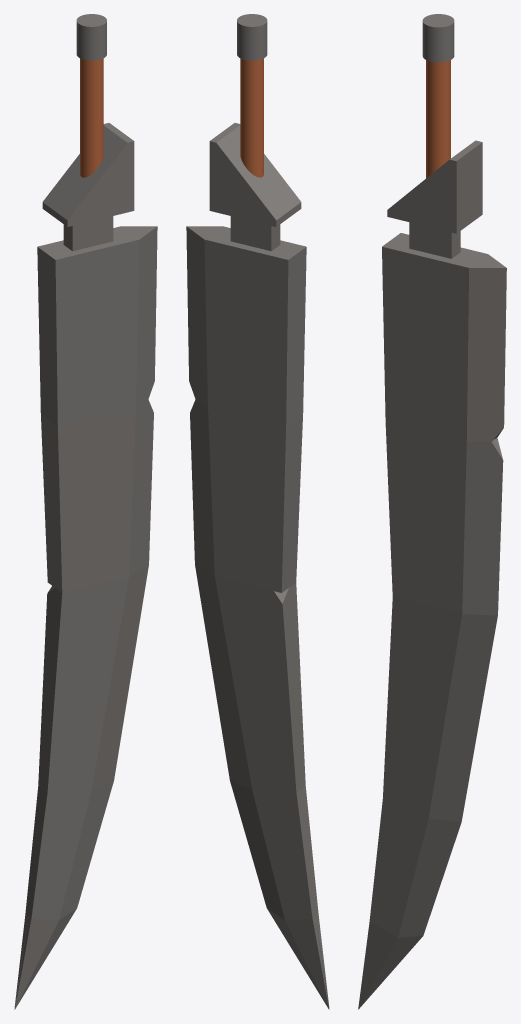
Rendered from SwordGoblin.fbx.
3 renders of one model, left to right at view 1: azimuth 30°, elevation 25°; view 2: azimuth 150°, elevation 25°; view 3: azimuth 330°, elevation 25°, orthographic. The views are drawn at different scales.
Visible parts, largest first — view 1: Cube.003, Cylinder.001, Cylinder.004; view 2: Cube.003, Cylinder.001, Cylinder.004; view 3: Cube.003, Cylinder.001, Cylinder.004.
Part boxes in pixels (x1,y1,x2,y2): Cube.003: (14,123,157,1009); Cylinder.001: (80,58,103,177); Cylinder.004: (76,14,106,60); Cube.003: (186,123,329,1009); Cylinder.001: (240,58,263,177); Cylinder.004: (237,14,267,60); Cube.003: (358,140,506,1009); Cylinder.001: (426,60,450,178); Cylinder.004: (422,14,454,62).
Size of the model in its own units: 40.38 by 262 by 12.3.
